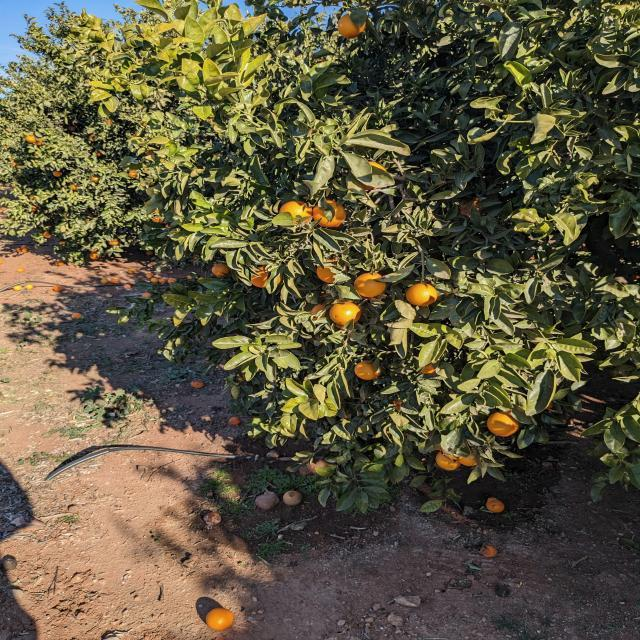Jeruk Sudah Matang: (488, 410, 518, 437), (314, 202, 346, 227), (278, 202, 312, 224), (354, 273, 386, 296), (360, 160, 384, 190), (332, 302, 361, 326), (408, 282, 438, 305), (318, 258, 343, 284), (336, 15, 366, 35), (249, 265, 272, 288), (354, 362, 379, 380), (459, 198, 483, 216), (457, 448, 478, 467), (484, 498, 504, 513), (436, 455, 458, 468), (311, 304, 327, 320), (212, 264, 228, 276), (444, 450, 462, 458), (422, 364, 436, 374), (150, 214, 163, 222), (229, 417, 241, 425), (26, 136, 36, 144), (109, 239, 119, 246), (88, 134, 96, 142), (90, 253, 98, 260), (129, 171, 137, 178), (52, 171, 62, 176), (44, 232, 52, 238), (70, 184, 78, 190), (30, 206, 38, 212), (90, 177, 98, 180), (30, 194, 34, 200), (96, 152, 102, 156), (108, 120, 114, 124), (59, 242, 66, 245)
